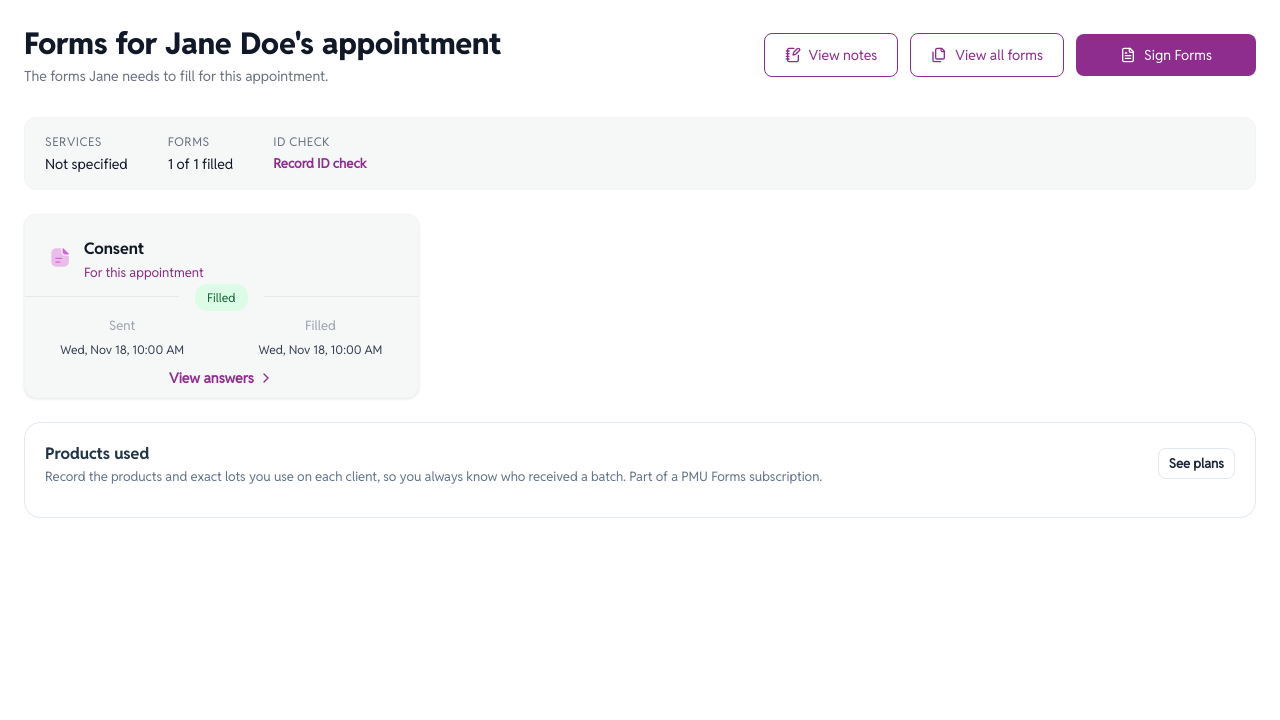
ClientsFormsForAppointments › records an ID check: the type and 18+, never the ID itself
Click the button "Record ID check".
click(320, 164)  # box [273,155,366,172]
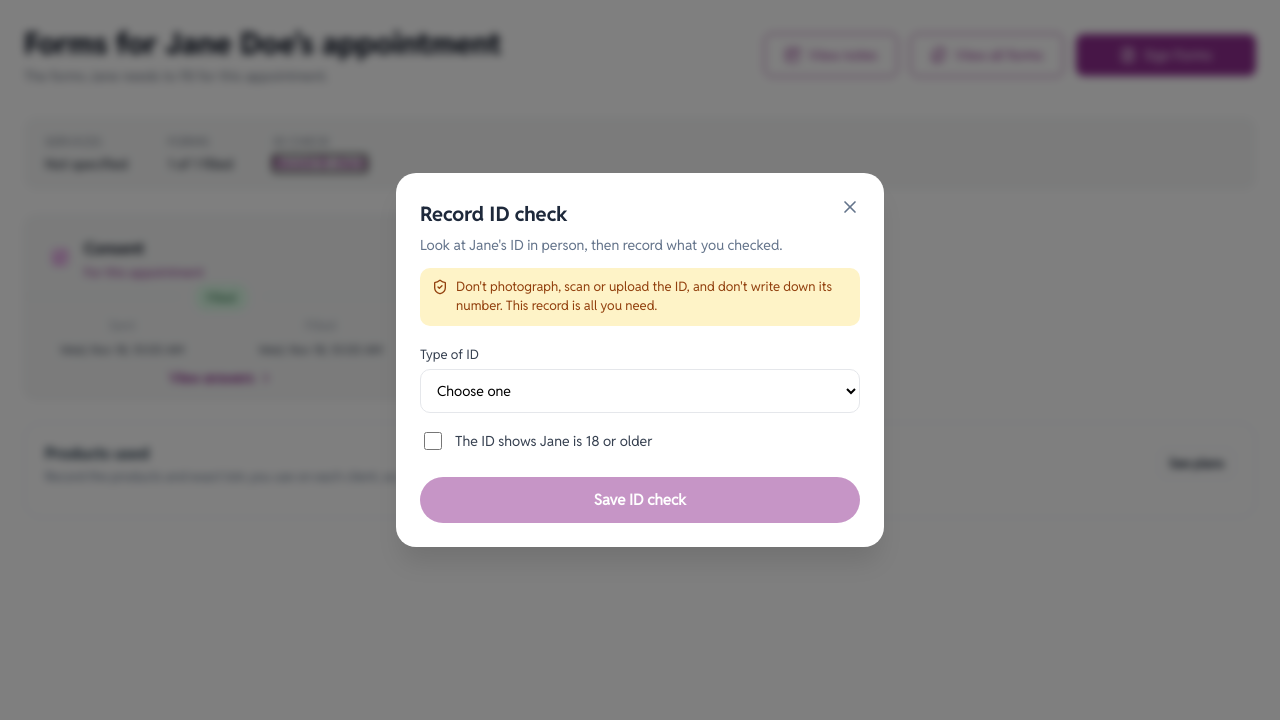
expect the dialog "Record ID check" shows "Don't photograph, scan or upload the ID": met, box [456,278,832,314]
expect the button "Save ID check" is disabled: met, box [420,477,860,523]
Select "Passport" in the dropdown labelled "Type of ID" at (640, 391), box [420,369,860,413]
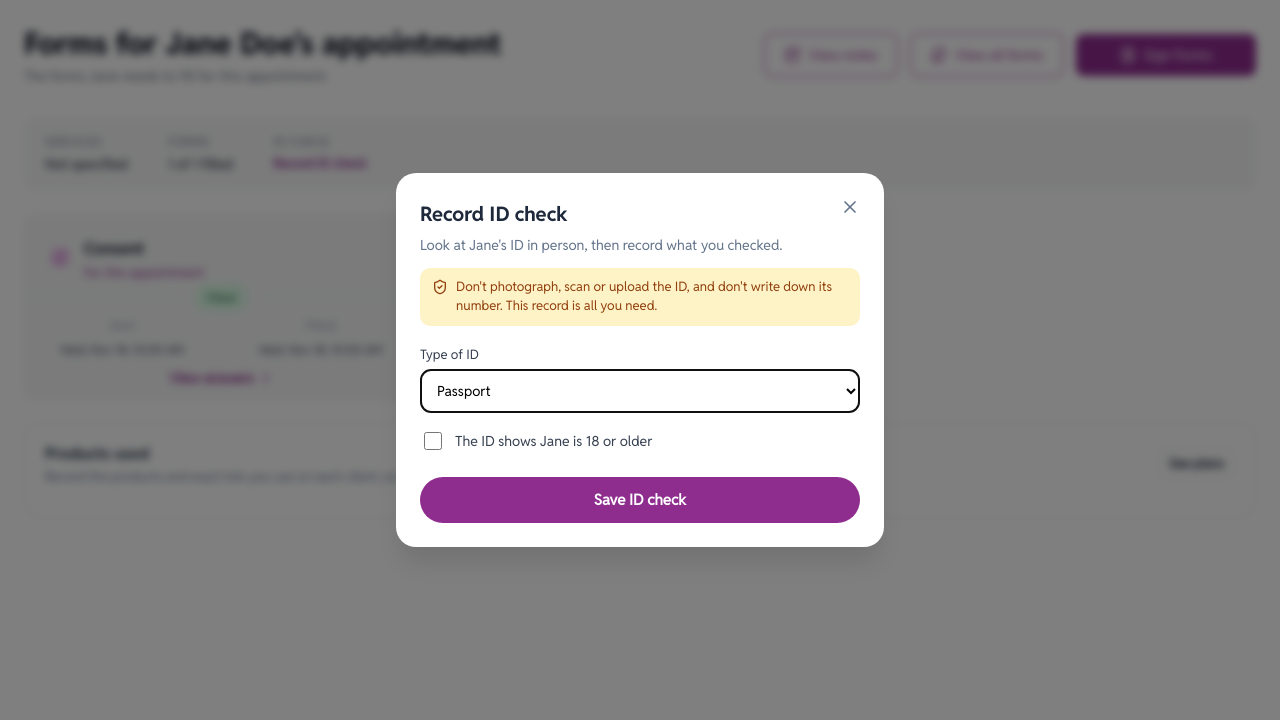
Click the checkbox labelled "The ID shows Jane is 18 or older".
click(433, 441)  # box [424,432,442,450]
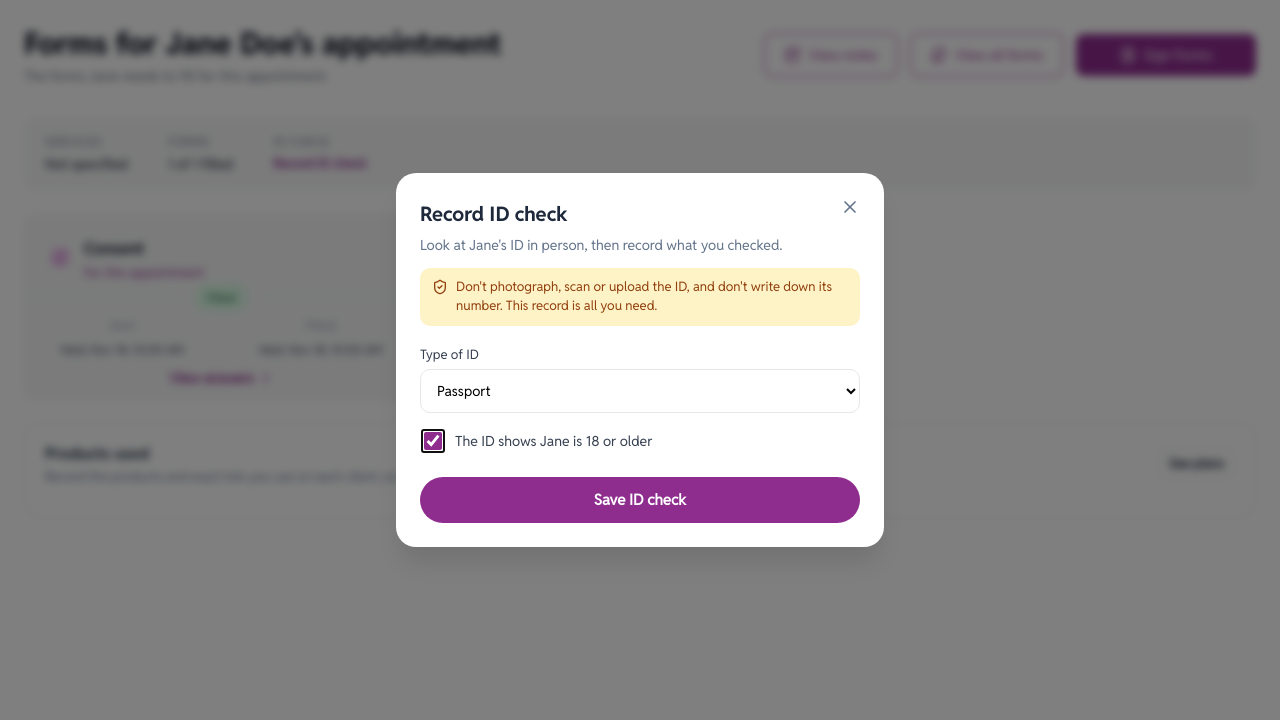
Click the button "Save ID check".
click(640, 500)  # box [420,477,860,523]
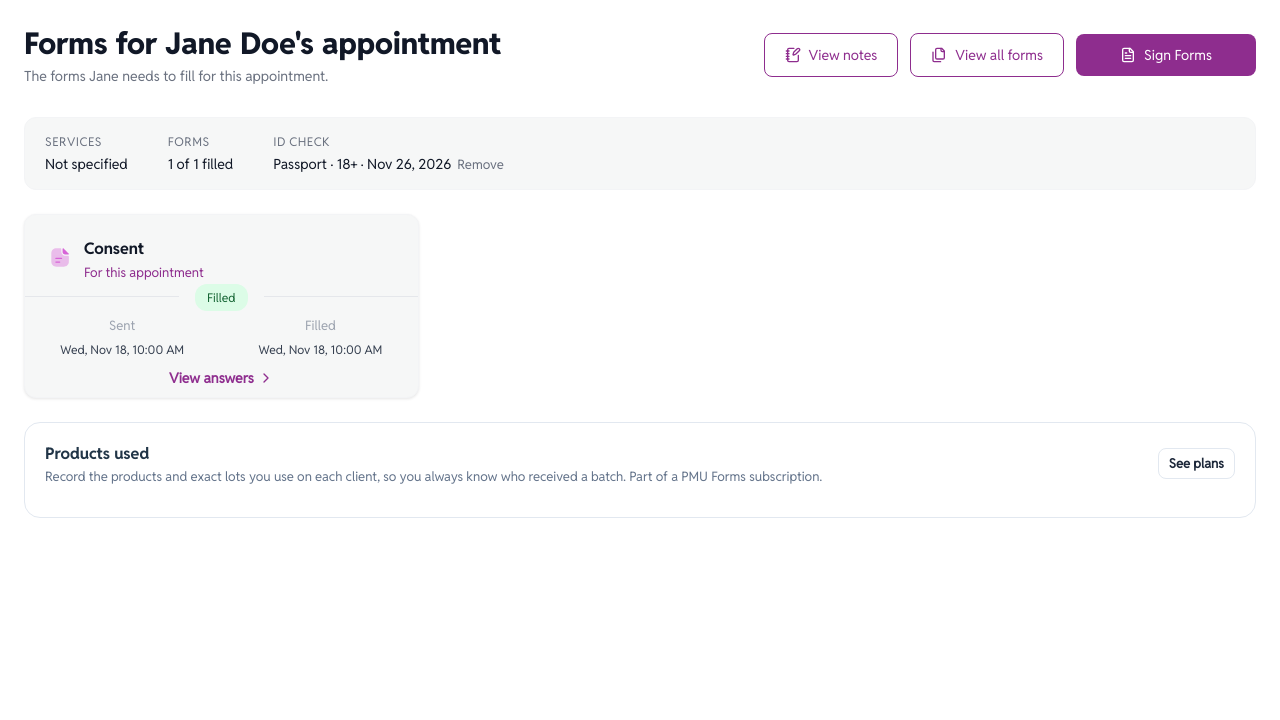
expect the text "Passport · 18+ · Nov 26, 2026 Remove" is shown: met, box [273,155,504,173]
expect the dialog is gone: met
